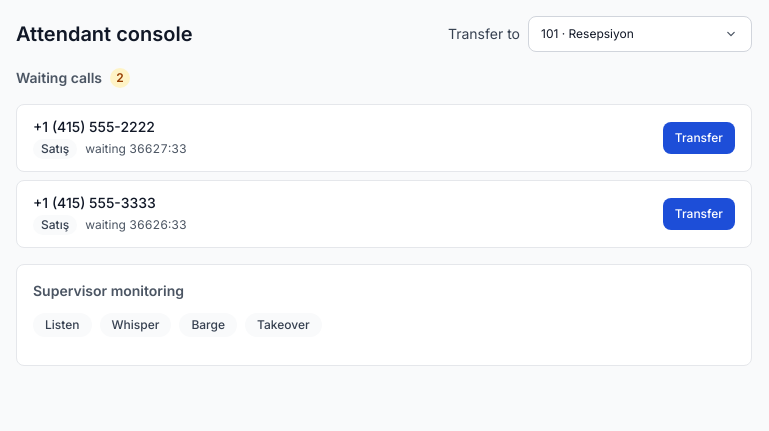
Test: AttendantConsole › süpervizör izleme modu seçilince callStore.monitor ayarlanır + matris gösterilir
Click the button "Whisper" at (135,325), box [100,313,171,337]
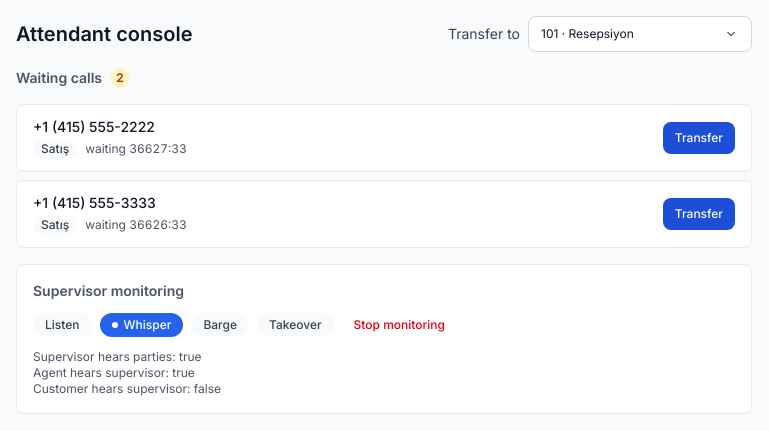
expect the list item "Agent hears supervisor: true" is shown: met, box [33,365,195,380]
